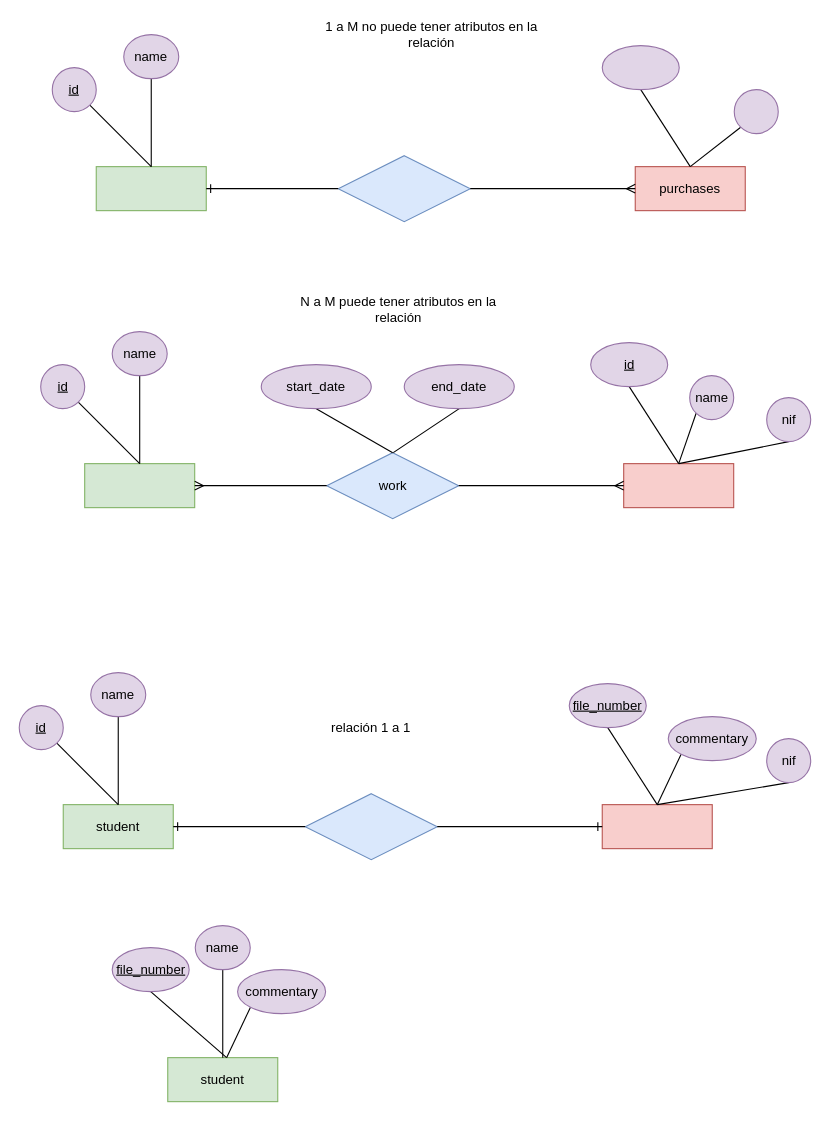
This 831x1121 diagram has some shape labels left out. The shapes that lost their labels are listed below. From the top down, each one's centre as x and y in pixels, then its label:
At (x=640, y=67): "reference".
At (x=755, y=111): "date".
At (x=150, y=188): "customer".
At (x=403, y=188): "does".
At (x=139, y=485): "worker".
At (x=678, y=485): "company".
At (x=370, y=826): "has".
At (x=656, y=826): "file".
